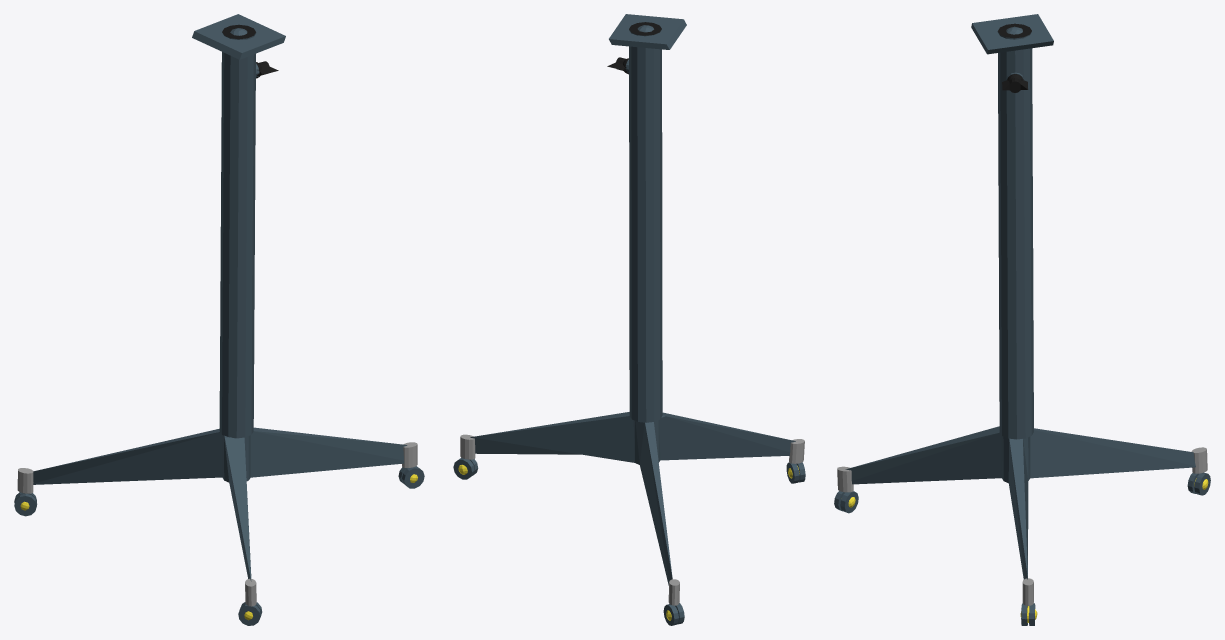
Rendered from small-stand-with-wheels-by-peter-simcoe-bwgNq3z2SQs.glb.
3 views of the same model, side by side, from view 1: azimuth 30°, elevation 25°; view 2: azimuth 150°, elevation 25°; view 3: azimuth 270°, elevation 25° (orthographic). The views are drawn at different scales.
Visible parts, largest first — view 1: group890988569, group804147110, group833358346; view 2: group804147110, group890988569, group833358346; view 3: group804147110, group890988569, group833358346.
Boxes of the visible parts, bbox=[...] form: group890988569: bbox=[33, 427, 407, 581]; group804147110: bbox=[219, 24, 256, 438]; group833358346: bbox=[192, 14, 285, 59]; group804147110: bbox=[629, 22, 662, 422]; group890988569: bbox=[470, 412, 795, 585]; group833358346: bbox=[609, 14, 686, 49]; group804147110: bbox=[997, 23, 1033, 439]; group890988569: bbox=[845, 426, 1195, 579]; group833358346: bbox=[971, 14, 1053, 54].
Bounding box in the file's own units: 0.6567 × 1.02 × 0.6621.
